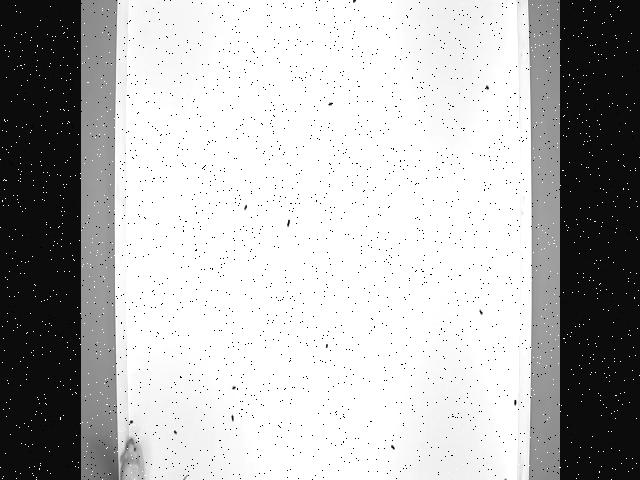Tikus: (114, 439, 189, 480)
